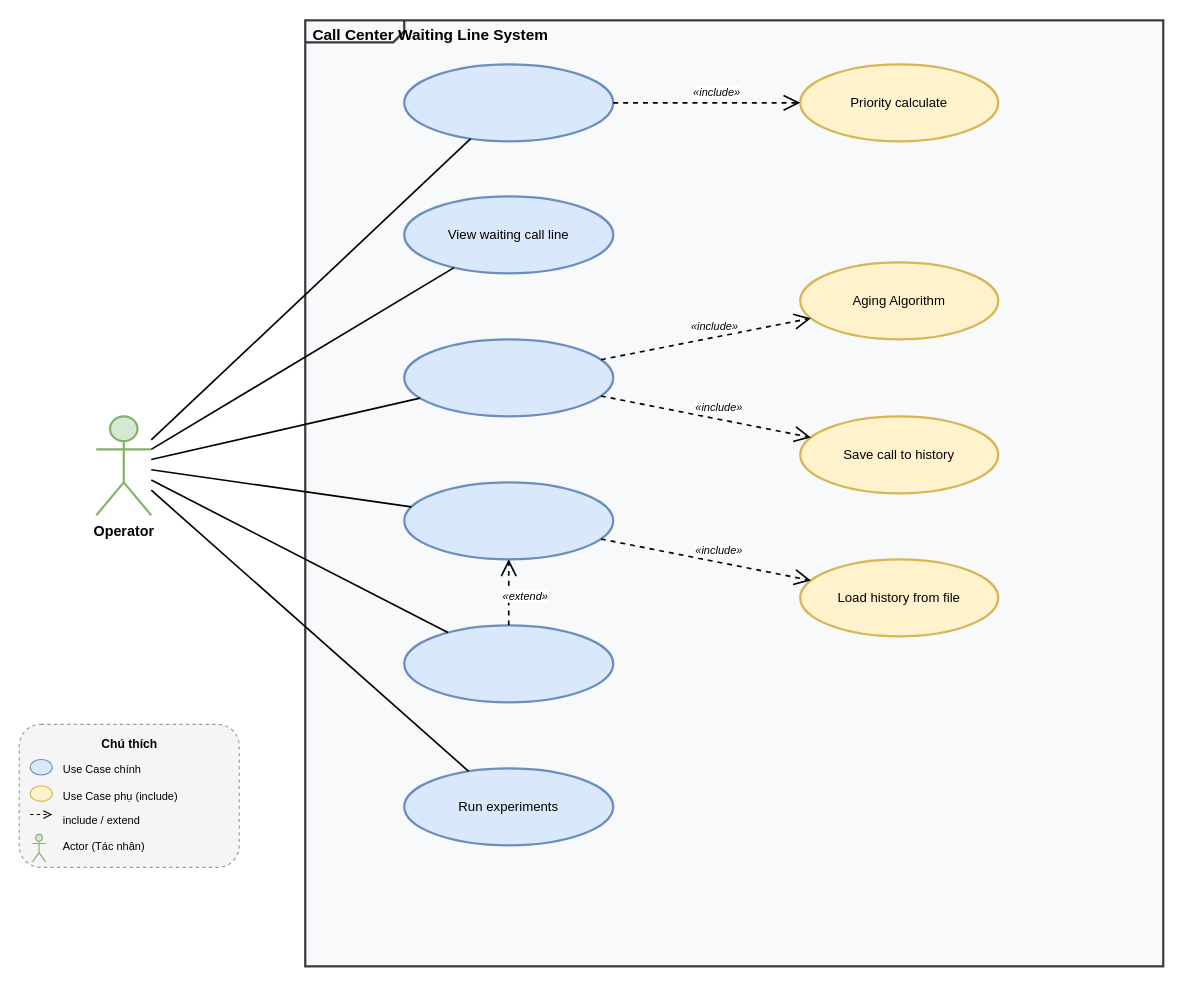
Image size: 1184x988. Some labels were removed from this diagram. The shapes that lost their labels are listed below. From the top down, each one's box as (x1, y1, x2, y2) in pixels, then its label:
(403, 63, 614, 142): Add new call
(403, 338, 614, 417): Proceed to handle next call
(403, 481, 614, 560): View call history
(403, 624, 614, 703): Find specific call
